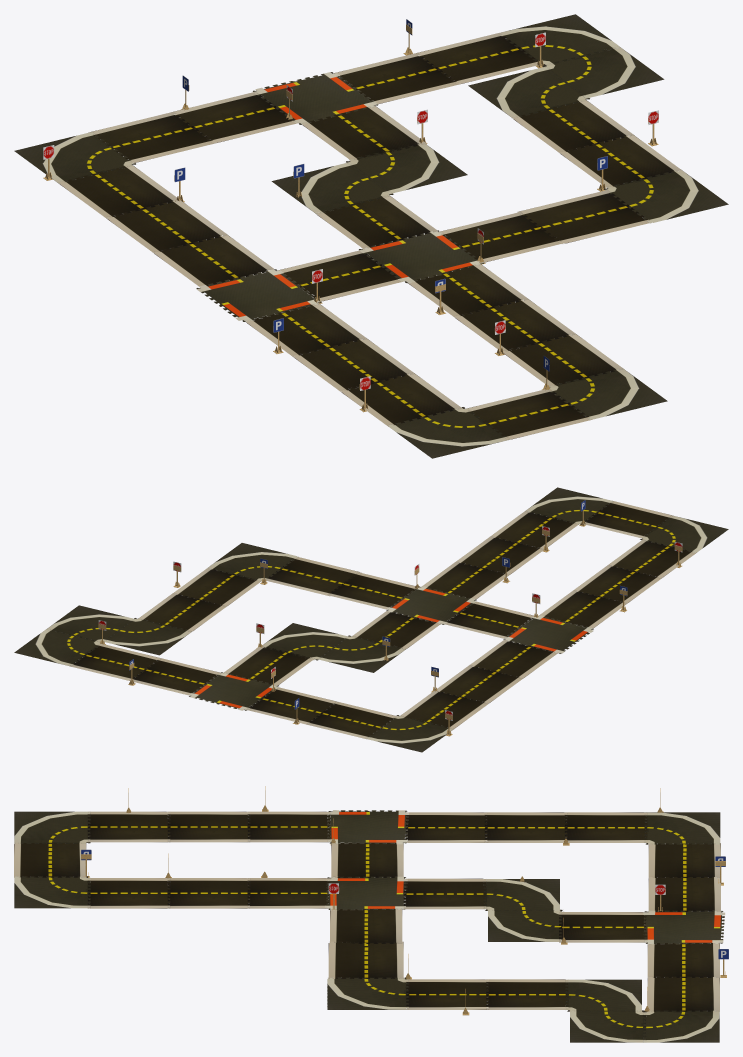
The model's file is KiuPathObj.glb.
The picture shows the model from 3 angles, top to bottom: view 1: azimuth 30°, elevation 25°; view 2: azimuth 150°, elevation 25°; view 3: azimuth 270°, elevation 25°; orthographic projection. The views are drawn at different scales.
Visible parts, largest first — view 1: Tile.031, Tile.018, Tile.009, Tile.030, Tile.022, Tile.005, Tile.015, Tile.023, Tile.021, Tile.010, Tile.013, Tile.024 (+21 smaller); view 2: Tile.031, Tile.005, Tile.009, Tile.018, Tile.022, Tile.014, Tile.030, Tile.011, Tile.024, Tile.029, Tile.020, Tile.013 (+21 smaller); view 3: Tile.031, Tile.018, Tile.022, Tile.009, Tile.015, Tile.001, Tile.003, Tile, Tile.030, Tile.028, Tile.005, Tile.010 (+21 smaller).
Boxes of the visible parts, x1,y1,x2,y2 form: Tile.031: (517, 190, 649, 243); Tile.018: (302, 105, 426, 159); Tile.009: (196, 269, 321, 321); Tile.030: (603, 169, 728, 223); Tile.022: (253, 72, 378, 124); Tile.005: (359, 230, 483, 283); Tile.015: (316, 195, 438, 249); Tile.023: (415, 32, 539, 84); Tile.021: (171, 91, 298, 143); Tile.010: (58, 165, 180, 218); Tile.013: (106, 200, 227, 253); Tile.024: (333, 53, 460, 104); Tile.031: (265, 557, 361, 596); Tile.005: (386, 586, 476, 624); Tile.009: (503, 615, 593, 653); Tile.018: (223, 646, 314, 685); Tile.022: (189, 672, 278, 710); Tile.014: (469, 639, 558, 678); Tile.030: (207, 543, 298, 581); Tile.011: (443, 601, 533, 638); Tile.024: (130, 658, 221, 695); Tile.029: (138, 593, 226, 631); Tile.020: (306, 701, 396, 739); Tile.013: (434, 665, 523, 703); Tile.031: (328, 941, 403, 978); Tile.018: (559, 912, 647, 942); Tile.022: (643, 910, 725, 944); Tile.009: (327, 810, 409, 844); Tile.015: (403, 878, 486, 909); Tile.001: (167, 811, 250, 842); Tile.003: (247, 811, 330, 842); Tile: (87, 811, 170, 842); Tile.030: (327, 977, 408, 1009); Tile.028: (406, 979, 489, 1009); Tile.005: (325, 876, 407, 910); Tile.010: (564, 812, 647, 842).
Size of the model in its own units: 4.19 by 0.2303 by 5.39.
Materials: 67 (67 with a texture image).
